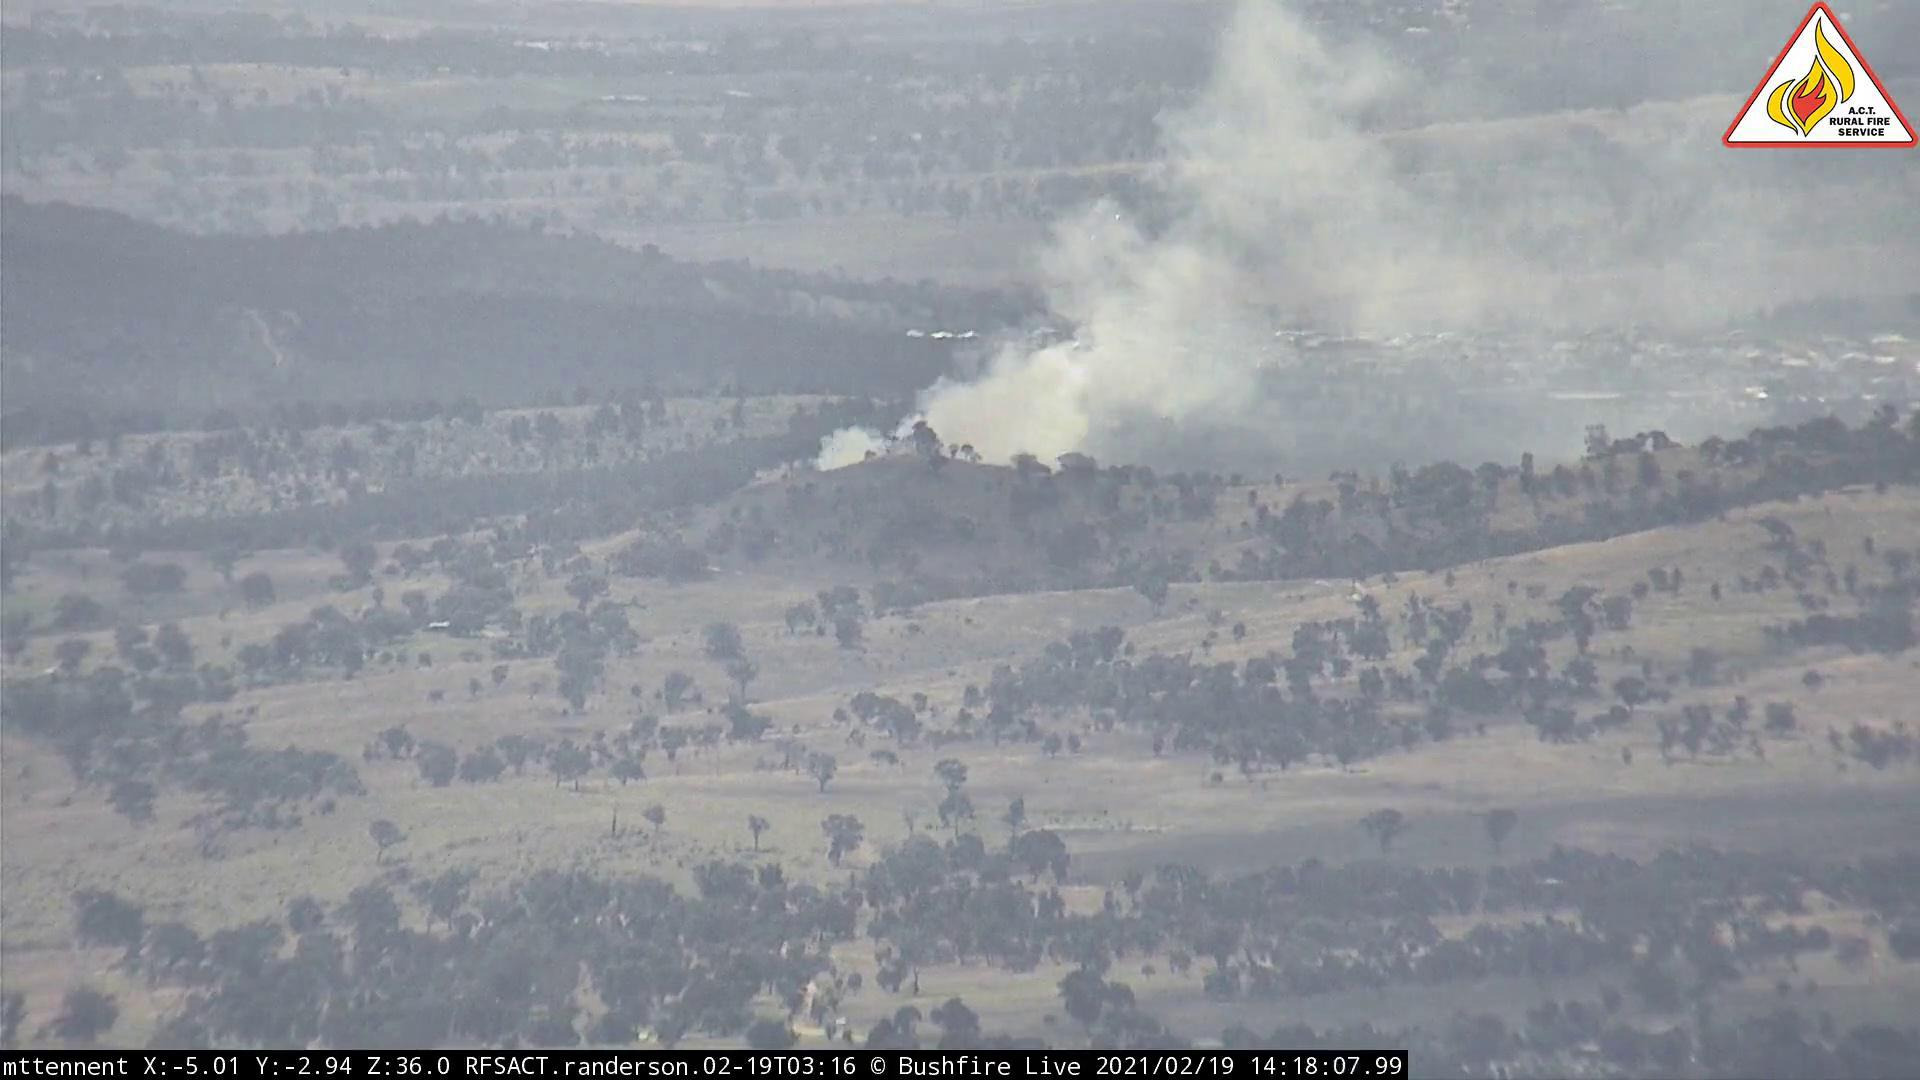Smoke: (767, 32, 1519, 498)
